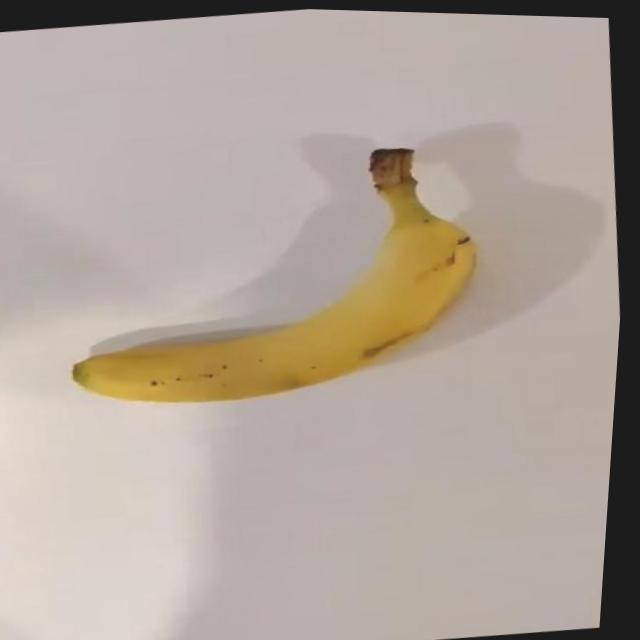Banana: (53, 127, 499, 420)
